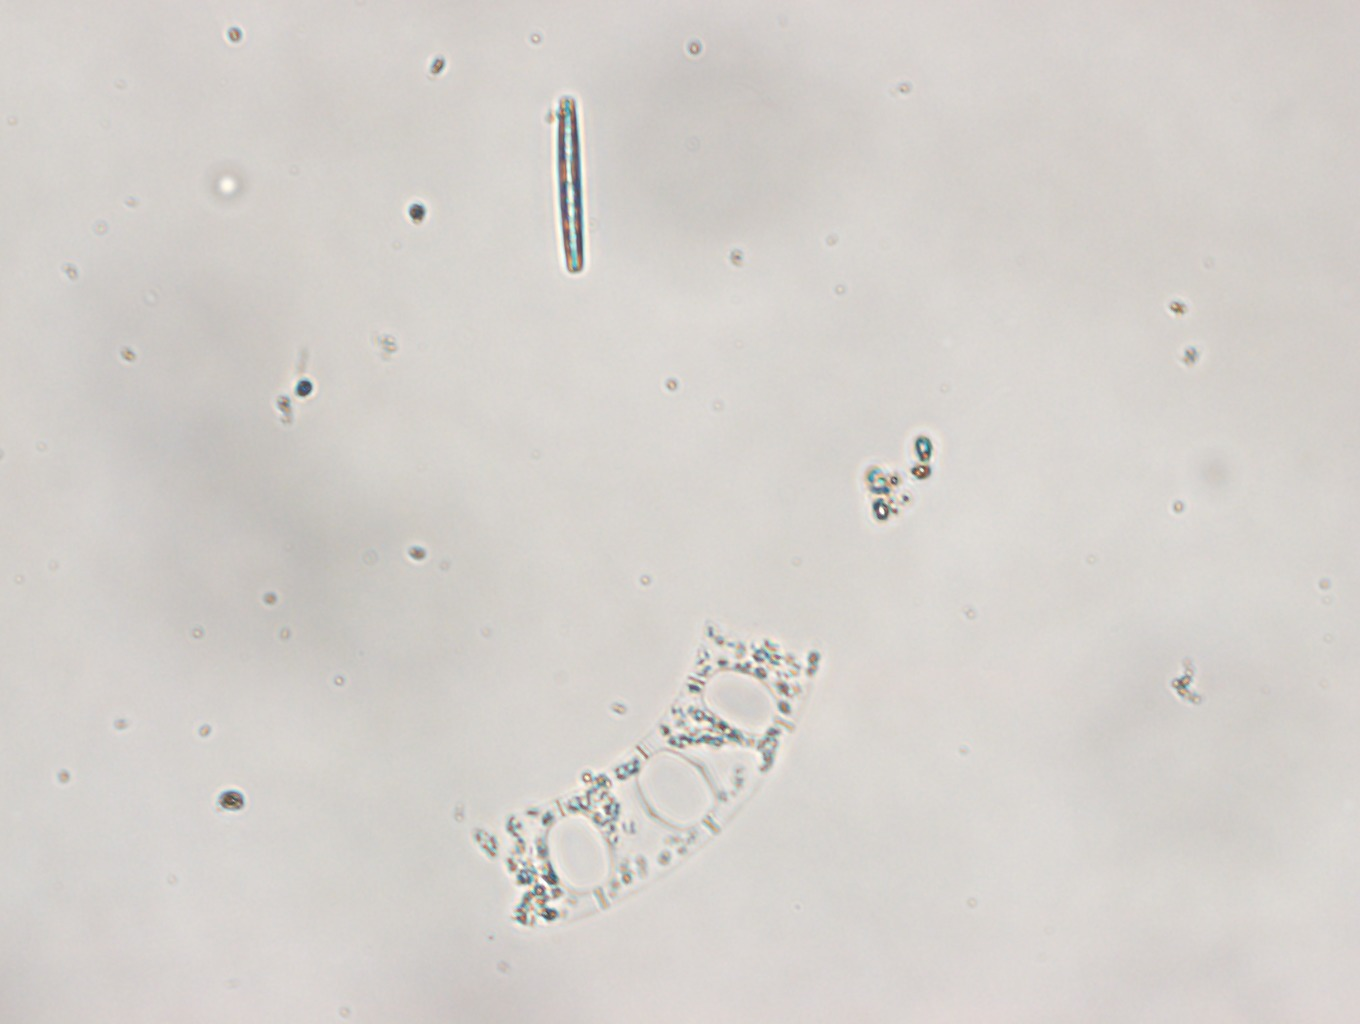eucampia: (472, 622, 824, 934)
thalassionema nitzschioides: (555, 95, 586, 274)
